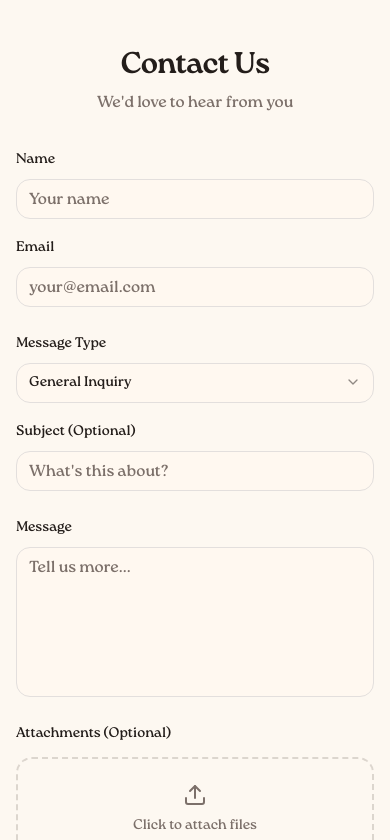
Form Validation - Contact Form › clears form after successful submission
The width and height of the screenshot is (390, 840).
Type "Test User" into the field labelled "Name" at coordinates (195, 199), box [16,179,374,219]
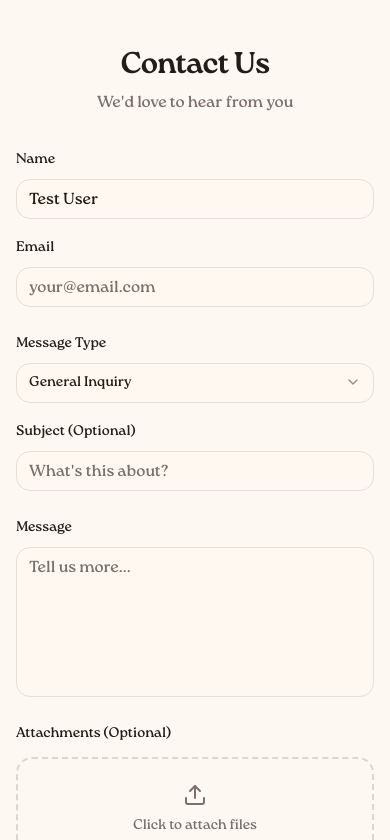
Type "test@example.com" into the field labelled "Email" at coordinates (195, 287), box [16,267,374,307]
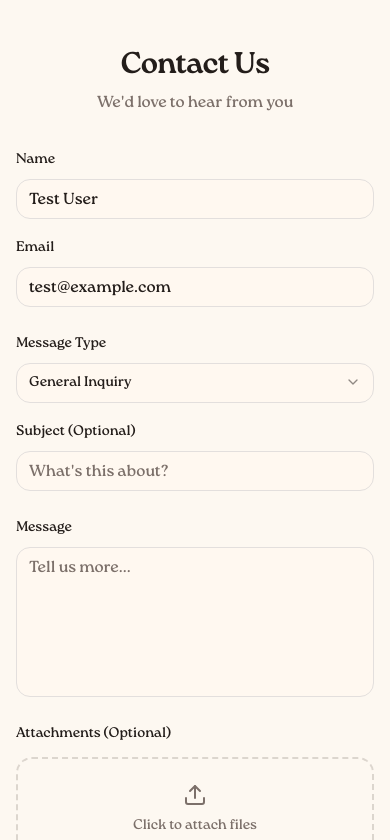
Type "This is a valid test message" into the text box labelled "Message" at coordinates (195, 622), box [16,547,374,697]
(page scrolled)
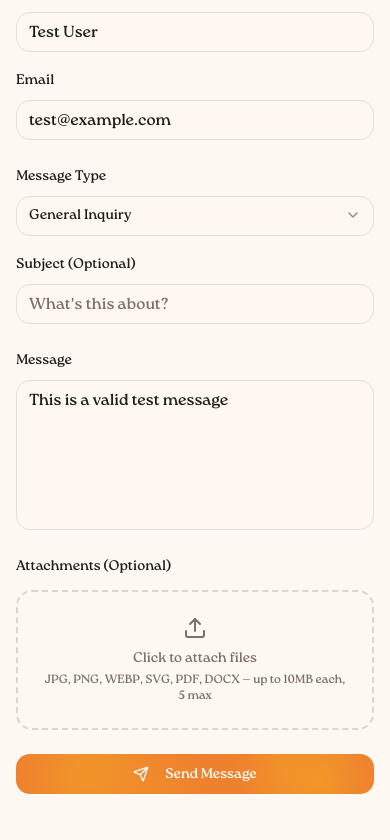
Click the button "Send Message" at coordinates (195, 774), box [16,754,374,794]
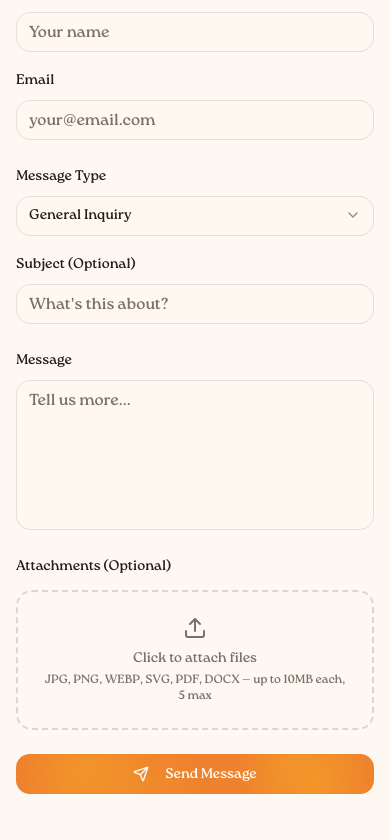
Result: the field labelled "Name" is empty at [16,12,374,52]
